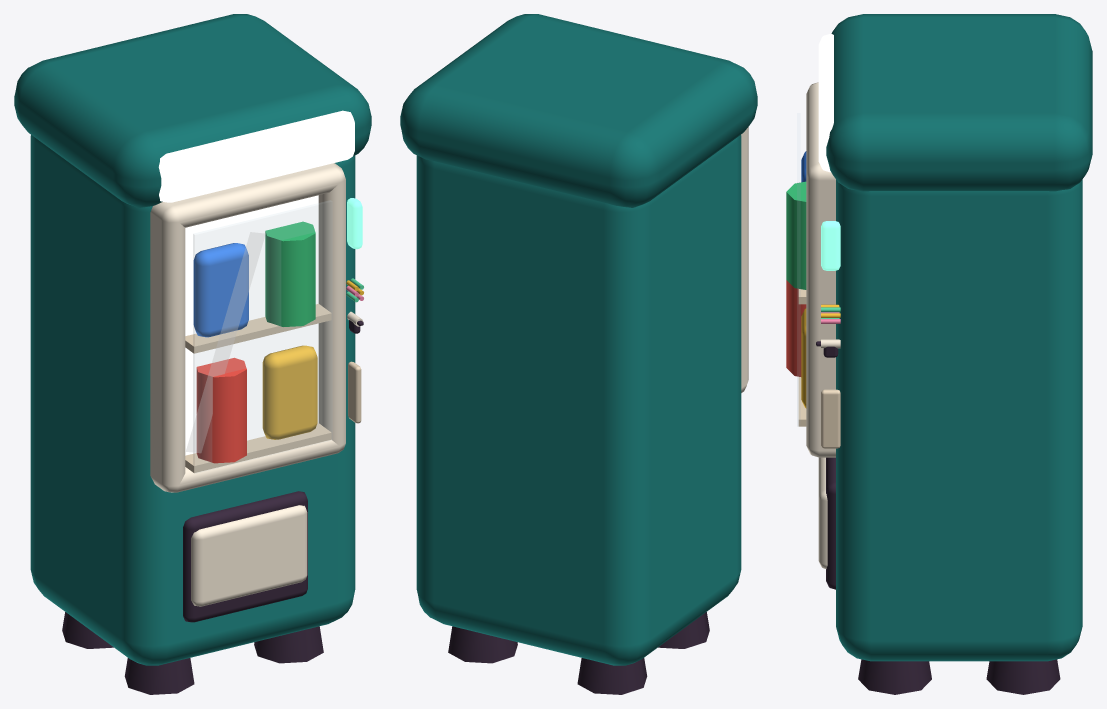
The model's file is machine-capsules.glb.
3 views of the same model, side by side, from view 1: azimuth 30°, elevation 25°; view 2: azimuth 150°, elevation 25°; view 3: azimuth 270°, elevation 25° (orthographic). The views are drawn at different scales.
Visible parts, largest first — view 1: cabinet, cap, glass, interior-back, header, frame-left, pickup-flap, machine-capsules, frame-right, frame-top, slot-0-0, slot-1-1 (+7 smaller); view 2: cabinet, cap, machine-capsules, frame-left; view 3: cabinet, cap, frame-right, machine-capsules, slot-1-1, header, frame-top, slot-0-0, pickup-recess, coin-return, pickup-flap, screen (+2 smaller).
Part boxes in pixels (<box>): cabinet: <box>30,135,355,665</box>; cap: <box>14,14,371,207</box>; glass: <box>193,201,331,472</box>; interior-back: <box>185,195,318,455</box>; header: <box>158,110,354,202</box>; frame-left: <box>150,202,185,491</box>; pickup-flap: <box>191,505,307,606</box>; machine-capsules: <box>62,278,363,694</box>; frame-right: <box>318,164,345,450</box>; frame-top: <box>150,163,345,227</box>; slot-0-0: <box>196,357,246,463</box>; slot-1-1: <box>265,221,315,326</box>; cabinet: <box>416,135,741,665</box>; cap: <box>400,14,757,207</box>; machine-capsules: <box>448,612,709,694</box>; frame-left: <box>741,127,748,392</box>; cabinet: <box>836,179,1082,661</box>; cap: <box>826,14,1092,191</box>; frame-right: <box>806,163,835,456</box>; machine-capsules: <box>798,289,1060,694</box>; slot-1-1: <box>786,181,806,289</box>; header: <box>818,33,833,172</box>; frame-top: <box>806,83,835,181</box>; slot-0-0: <box>786,280,806,376</box>; pickup-recess: <box>826,457,835,589</box>; coin-return: <box>821,389,840,448</box>; pickup-flap: <box>818,457,827,568</box>; screen: <box>821,221,840,270</box>.
Bounding box in the file's own units: 0.61 × 1.3 × 0.6202.
